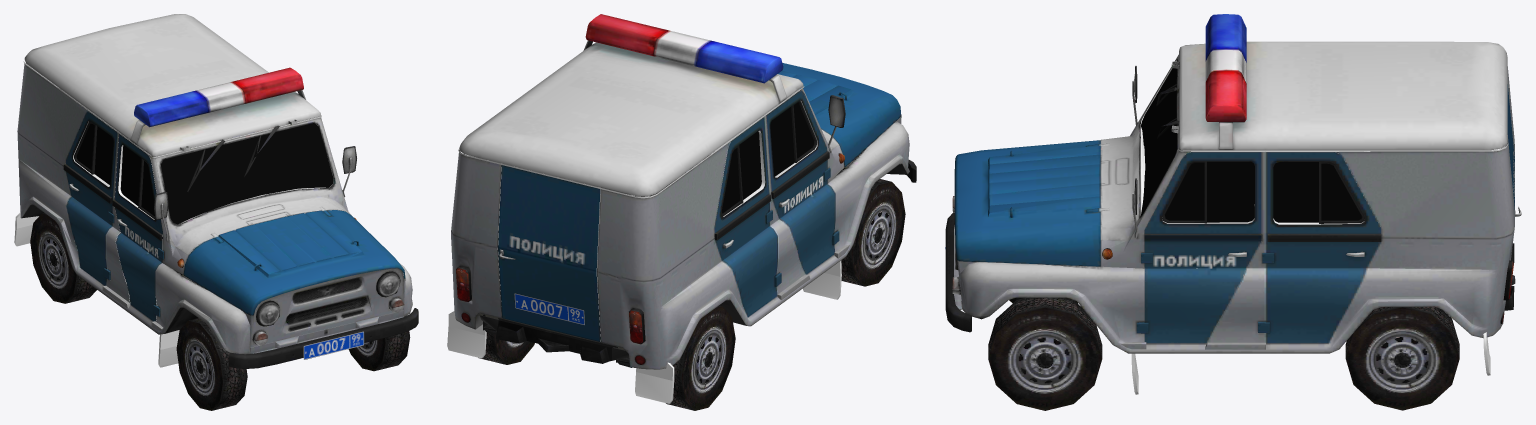
Rendered from 07_uaz_hunter_police.glb.
3 renders of one model, left to right at view 1: azimuth 30°, elevation 25°; view 2: azimuth 150°, elevation 25°; view 3: azimuth 270°, elevation 25°, orthographic. The views are drawn at different scales.
Parts seen in each view (by area): view 1: cop_uaz_LP_38, cop_uaz_wheel.001_35, cop_uaz_wheel.003_37, cop_uaz_wheel_34; view 2: cop_uaz_LP_38, cop_uaz_wheel.003_37, cop_uaz_wheel.001_35, cop_uaz_wheel.002_36; view 3: cop_uaz_LP_38, cop_uaz_wheel_34, cop_uaz_wheel.002_36.
Part boxes in pixels (left/top/right/bottom): cop_uaz_LP_38: left=14, top=14, right=418, bottom=368; cop_uaz_wheel.001_35: left=176, top=318, right=247, bottom=410; cop_uaz_wheel.003_37: left=30, top=213, right=96, bottom=303; cop_uaz_wheel_34: left=348, top=331, right=410, bottom=371; cop_uaz_LP_38: left=447, top=14, right=916, bottom=403; cop_uaz_wheel.003_37: left=666, top=305, right=735, bottom=410; cop_uaz_wheel.001_35: left=841, top=179, right=905, bottom=286; cop_uaz_wheel.002_36: left=478, top=332, right=534, bottom=364; cop_uaz_LP_38: left=945, top=14, right=1521, bottom=394; cop_uaz_wheel_34: left=988, top=297, right=1102, bottom=410; cop_uaz_wheel.002_36: left=1345, top=306, right=1459, bottom=410.
Bounding box in the file's own units: 1.78 × 2.02 × 3.58.
8 materials, 6 textured.
